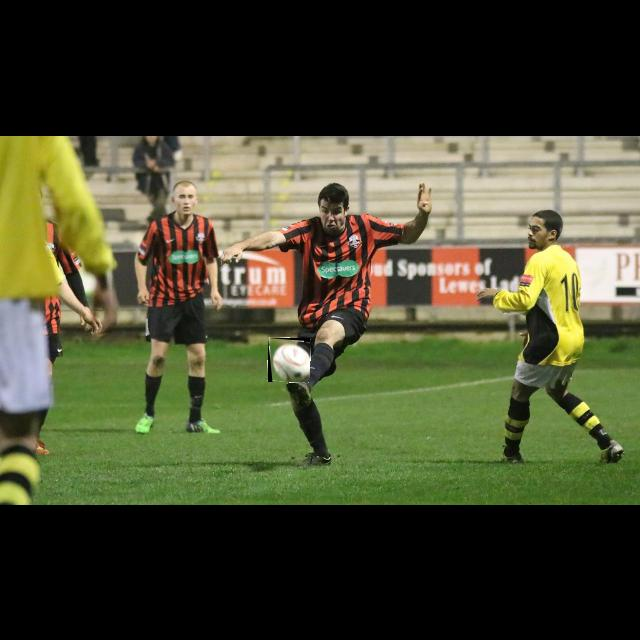Football: (268, 338, 310, 382)
